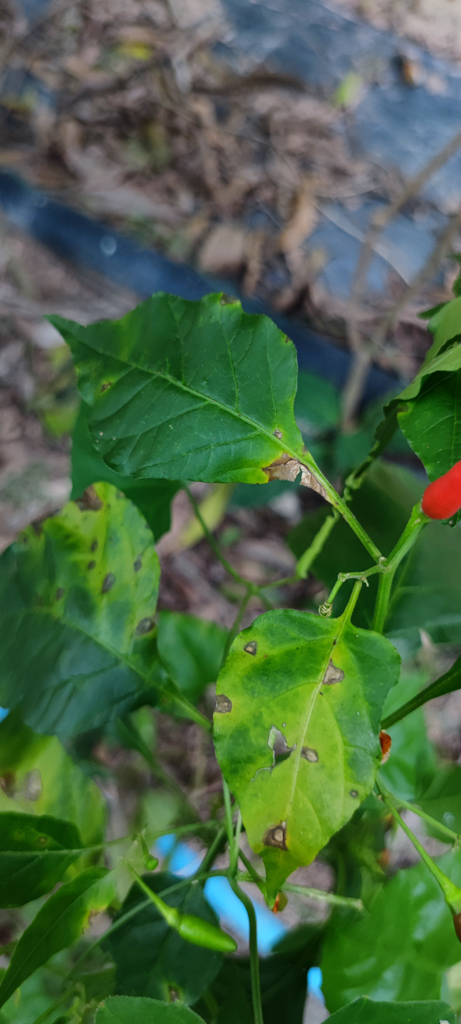frog-eye leafspot: (252, 818, 299, 856), (315, 651, 349, 696), (67, 481, 106, 516), (19, 764, 48, 807), (96, 566, 117, 610), (210, 690, 237, 721), (83, 903, 111, 932), (239, 631, 260, 666), (129, 614, 155, 641), (91, 375, 119, 400), (300, 743, 322, 768), (84, 535, 98, 574), (129, 552, 145, 578), (51, 585, 69, 605), (272, 424, 285, 442), (34, 833, 50, 847), (28, 519, 39, 538)
